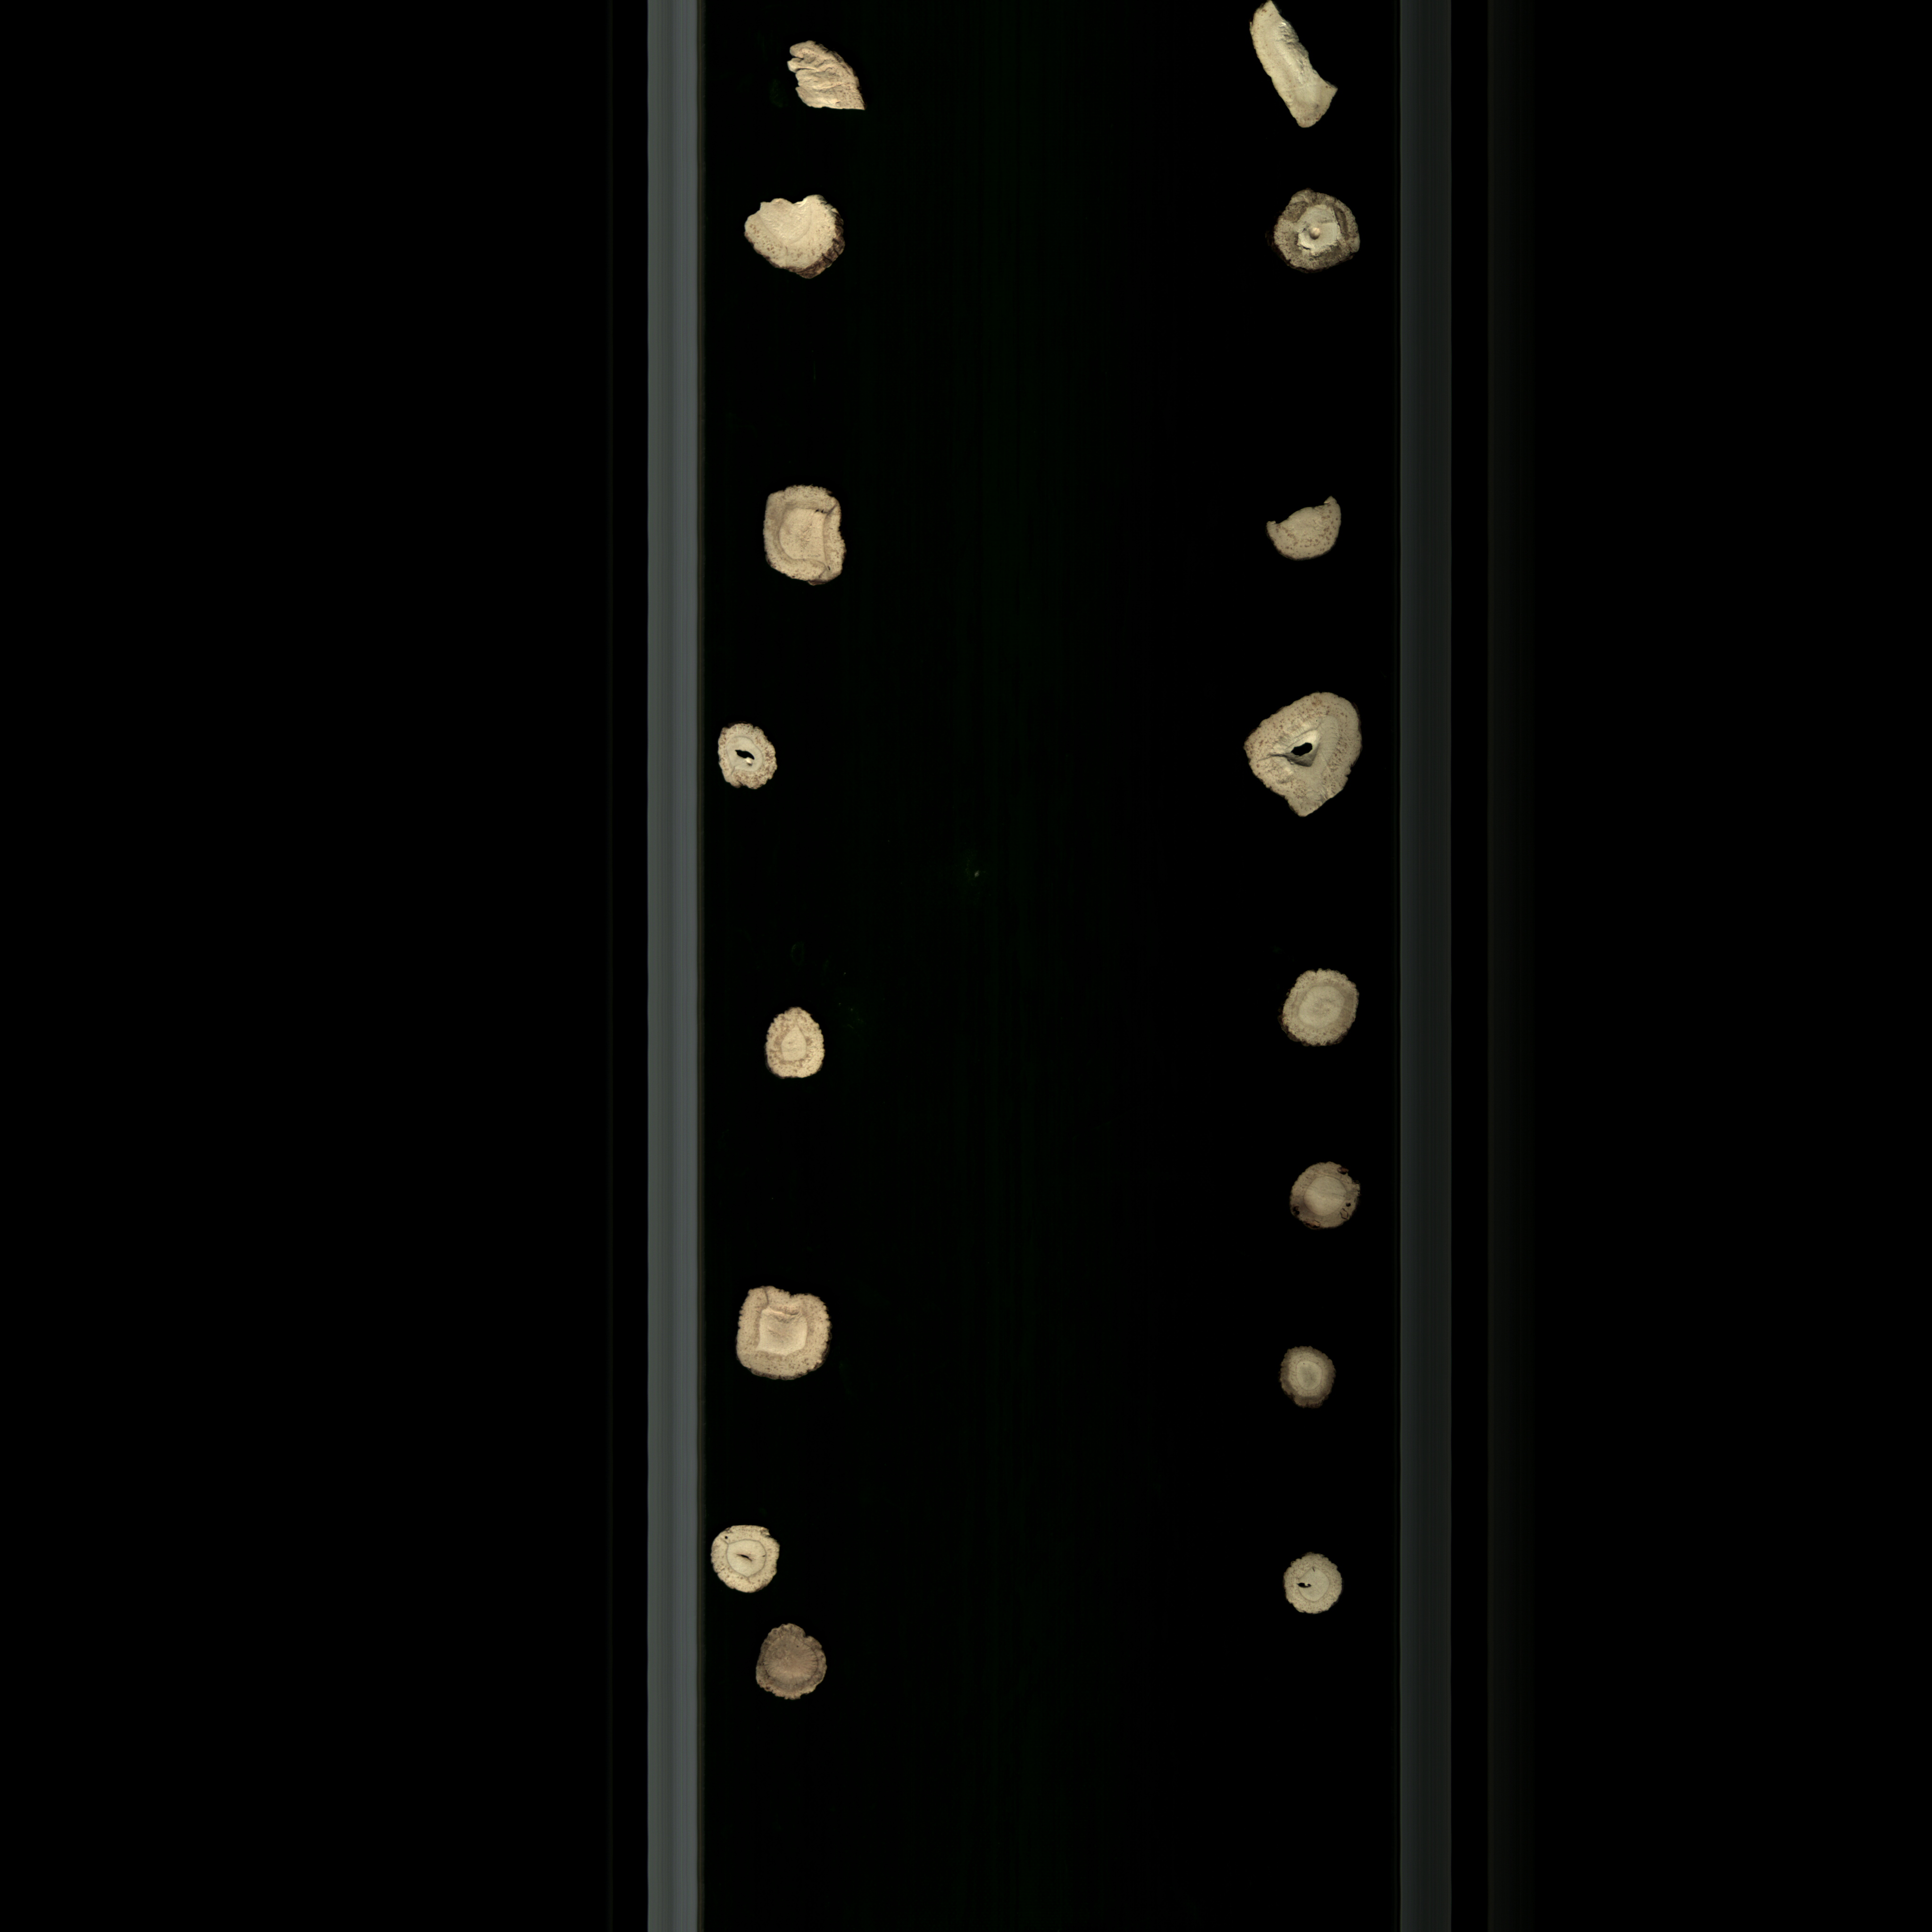debris: (1247, 7, 1352, 129), (736, 188, 855, 288), (775, 34, 878, 133), (1249, 485, 1352, 571)
distortion: (755, 479, 860, 593)
hole: (1233, 679, 1371, 833), (1270, 1543, 1353, 1629), (704, 1514, 789, 1598), (711, 718, 784, 798)
moldy: (745, 1615, 846, 1720), (1267, 180, 1373, 276), (1277, 1157, 1373, 1240), (1265, 1339, 1355, 1422)
